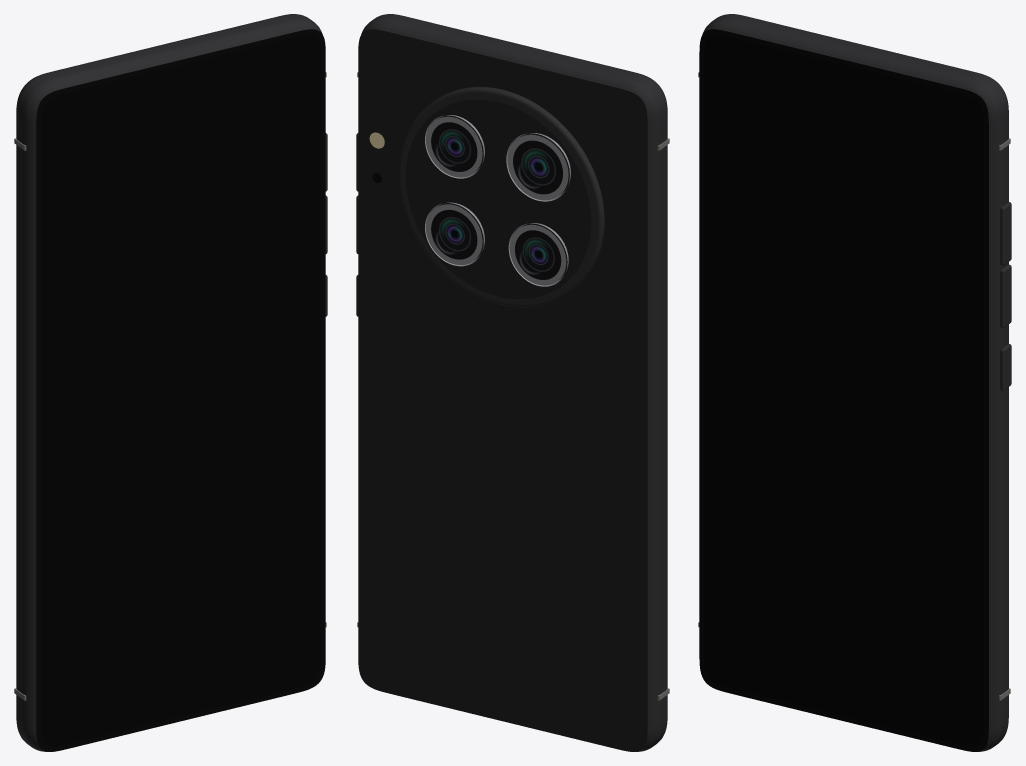
Rendered from demo-round.glb.
3 views of the same model, side by side, from view 1: azimuth 30°, elevation 25°; view 2: azimuth 150°, elevation 25°; view 3: azimuth 330°, elevation 25° (orthographic).
Visible parts, largest first — view 1: Screen, Frame, FrontGlass; view 2: BackGlass, Frame, CameraPlateau, CameraIsland, Lens0_Glass, Lens2_Glass, Lens1_Glass, Lens3_Glass, Lens0_Lip, Lens1_Lip, Lens2_Lip, Lens3_Lip; view 3: Screen, Frame, FrontGlass, Button_VolumeUp, Button_VolumeDown.
Boxes of the visible parts, x1,y1,x2,y2 form: Screen: (41, 35, 320, 746); Frame: (16, 14, 322, 751); FrontGlass: (36, 29, 325, 751); BackGlass: (358, 29, 647, 751); Frame: (361, 14, 667, 751); CameraPlateau: (405, 99, 591, 299); CameraIsland: (398, 87, 604, 307); Lens0_Glass: (513, 140, 562, 193); Lens2_Glass: (515, 230, 561, 279); Lens1_Glass: (431, 122, 477, 171); Lens3_Glass: (431, 209, 477, 259); Lens0_Lip: (507, 134, 568, 200); Lens1_Lip: (426, 116, 482, 177); Lens2_Lip: (509, 224, 566, 285); Lens3_Lip: (426, 204, 482, 264); Screen: (704, 35, 983, 746); Frame: (702, 14, 1008, 751); FrontGlass: (699, 29, 988, 751); Button_VolumeUp: (1000, 202, 1011, 265); Button_VolumeDown: (1000, 264, 1011, 327).
Bounding box in the file's own units: 0.0763 × 0.1614 × 0.0121.
Materials: 14 (2 with a texture image).
